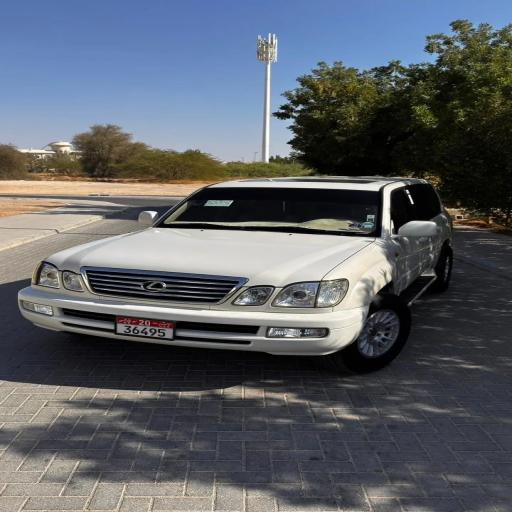license-plates: (117, 316, 174, 339)
